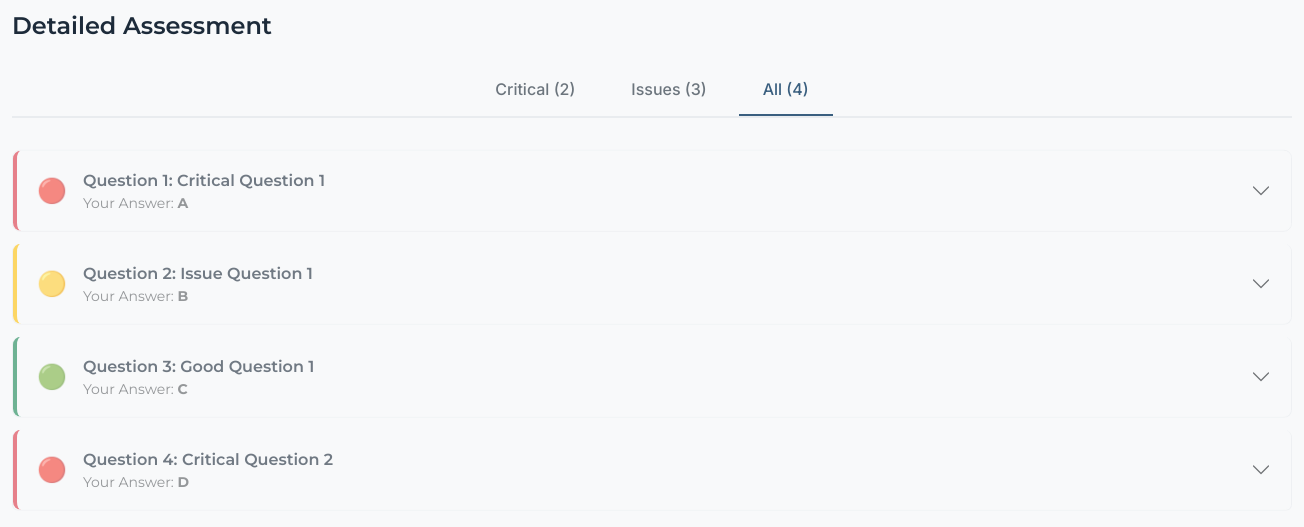
Test: DetailedResults › should filter results correctly when filter buttons are clicked
The width and height of the screenshot is (1304, 527).
Expected: the heading "Question 1: Critical Question 1" is shown, [83,171,325,190]
Expected: the heading "Question 2: Issue Question 1" is shown, [83,264,313,283]
Click the tab "Critical (2)". click: (535, 91)
box: [471,65,599,116]
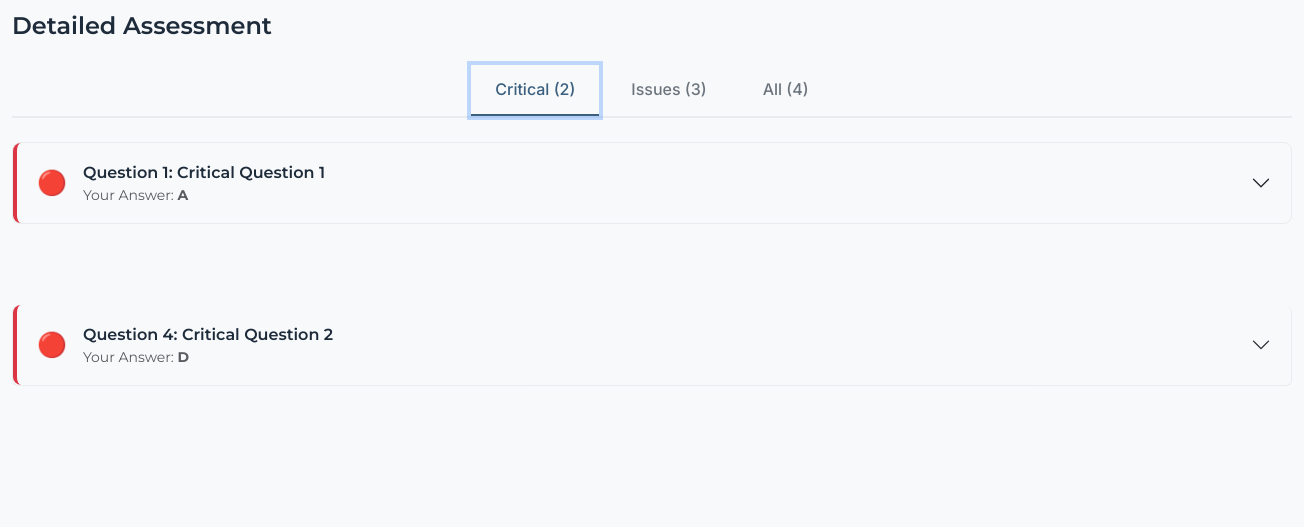
Expected: the heading "Question 1: Critical Question 1" is shown, [83,163,325,182]
Expected: the button "Issue Question 1" is gone
Expected: the button "Good Question 1" is gone
Click the tab "All (4)". click: (786, 91)
box: [739,65,833,116]
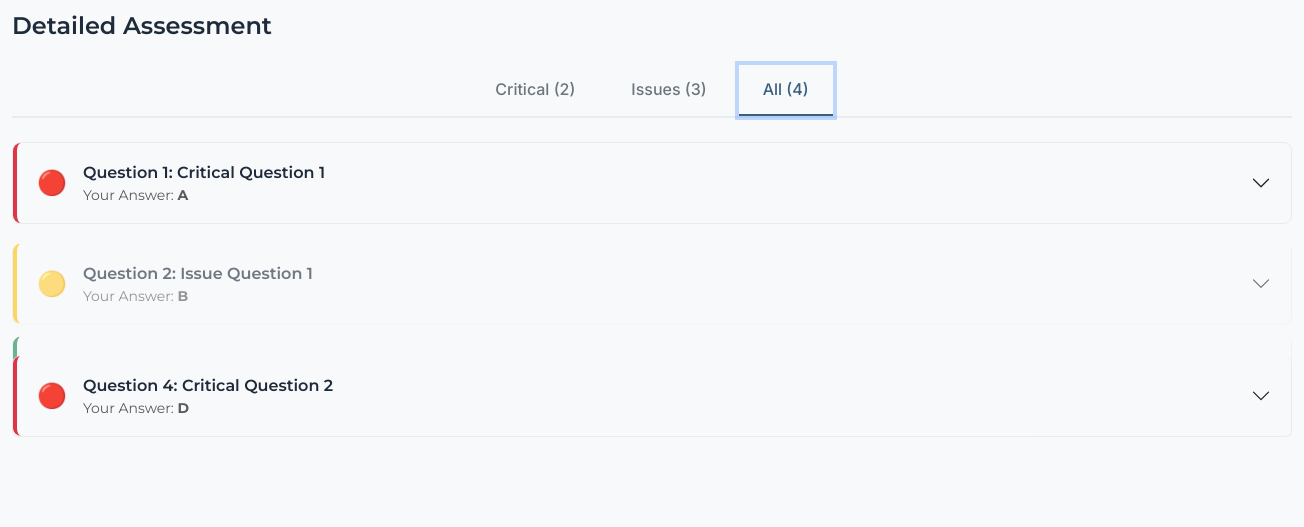
Expected: the heading "Question 1: Critical Question 1" is shown, [83,163,325,182]
Expected: the heading "Question 2: Issue Question 1" is shown, [83,264,313,283]
Click the tab "Issues (3)". click: (669, 91)
box: [607,65,731,116]
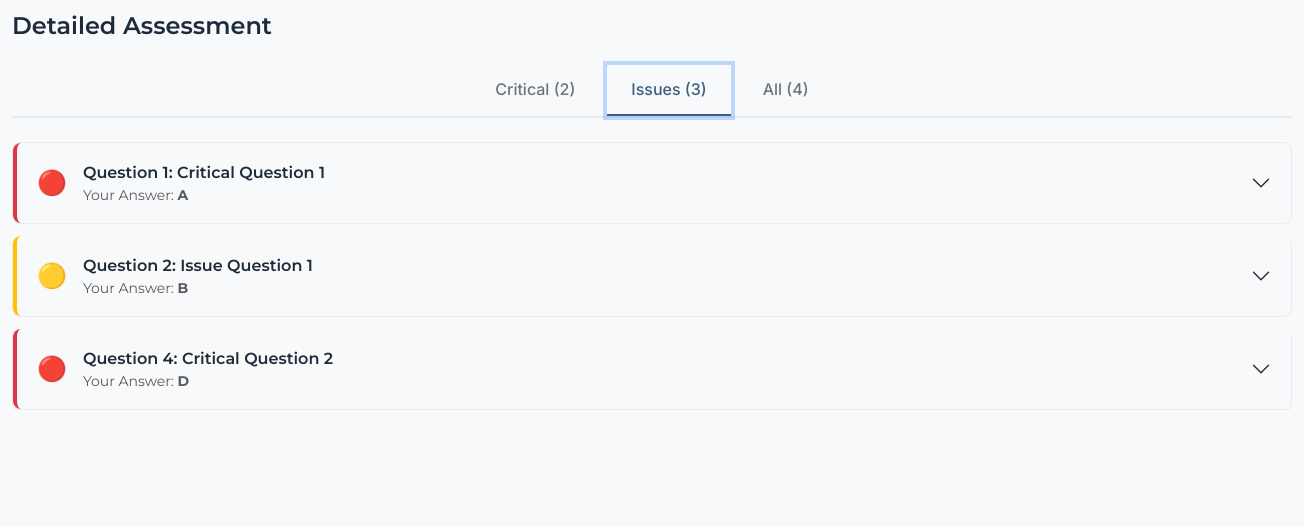
Expected: the heading "Question 1: Critical Question 1" is shown, [83,163,325,182]
Expected: the heading "Question 2: Issue Question 1" is shown, [83,256,313,275]
Expected: the button "Good Question 1" is gone
